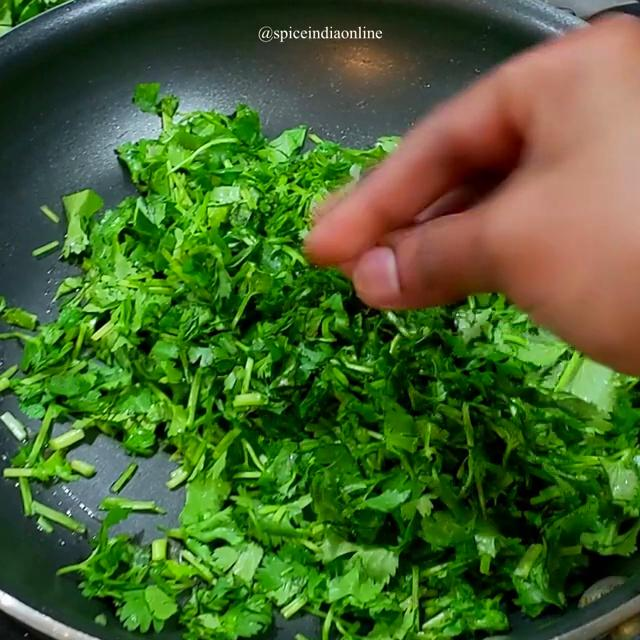cilantro: (109, 194, 334, 572), (351, 324, 547, 595)
